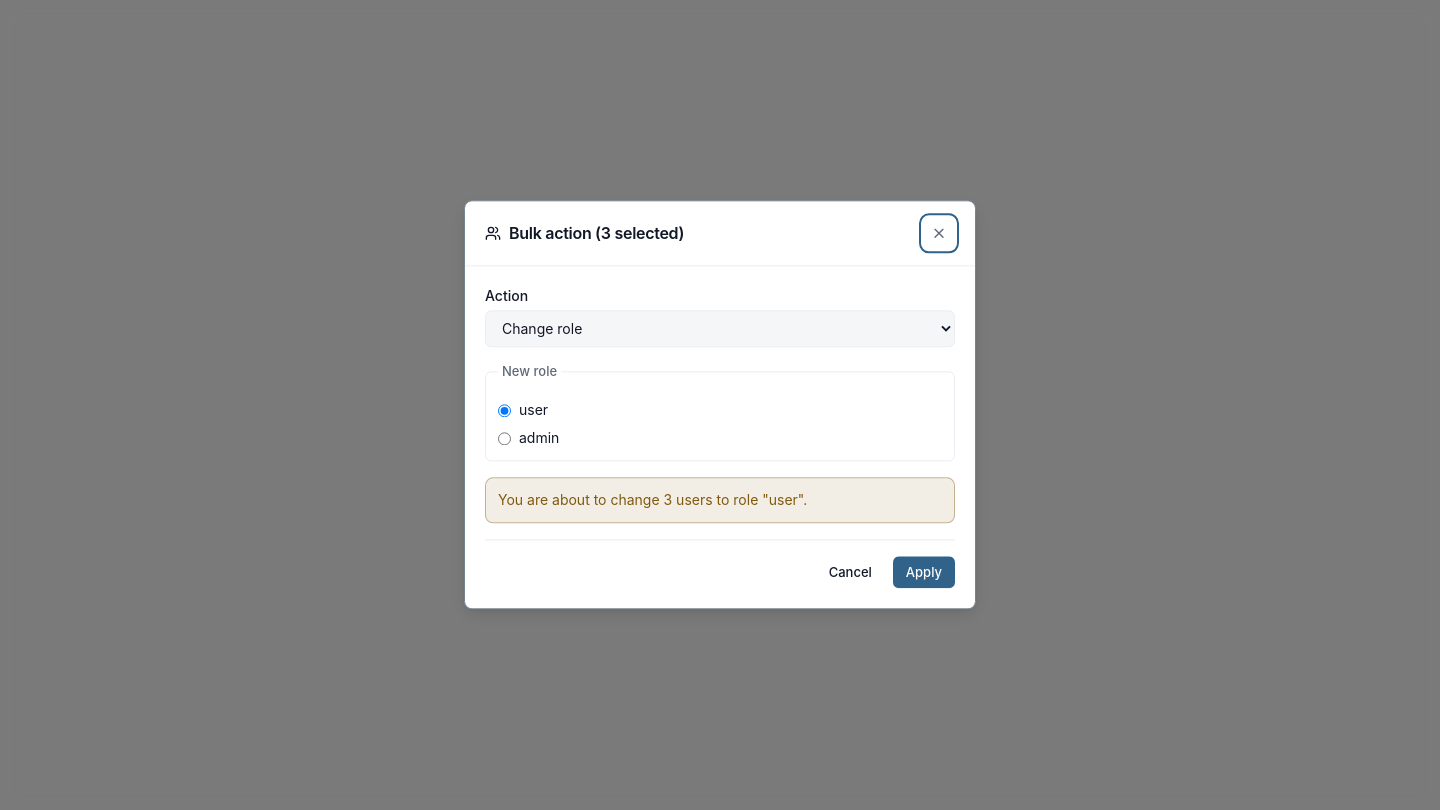
Test: UserBulkActionDialog › shows inline error on 400 and surfaces the message
Select "Add to group" in the dropdown with test id "bulk-action-kind" at (720, 329), box [485,310,955,347]
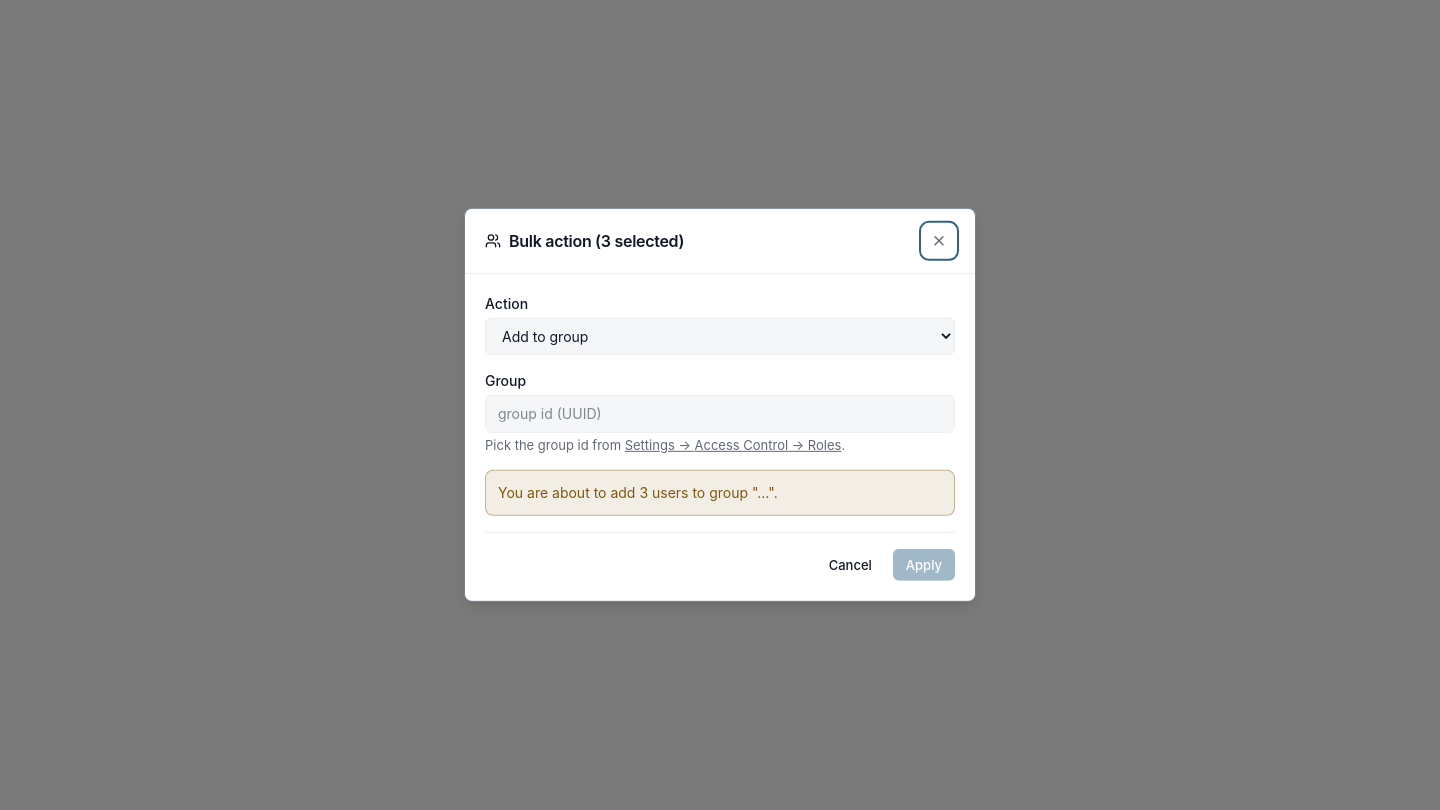
Type "group-eng" into the field with test id "bulk-action-group" at (720, 414), box [485,395,955,433]
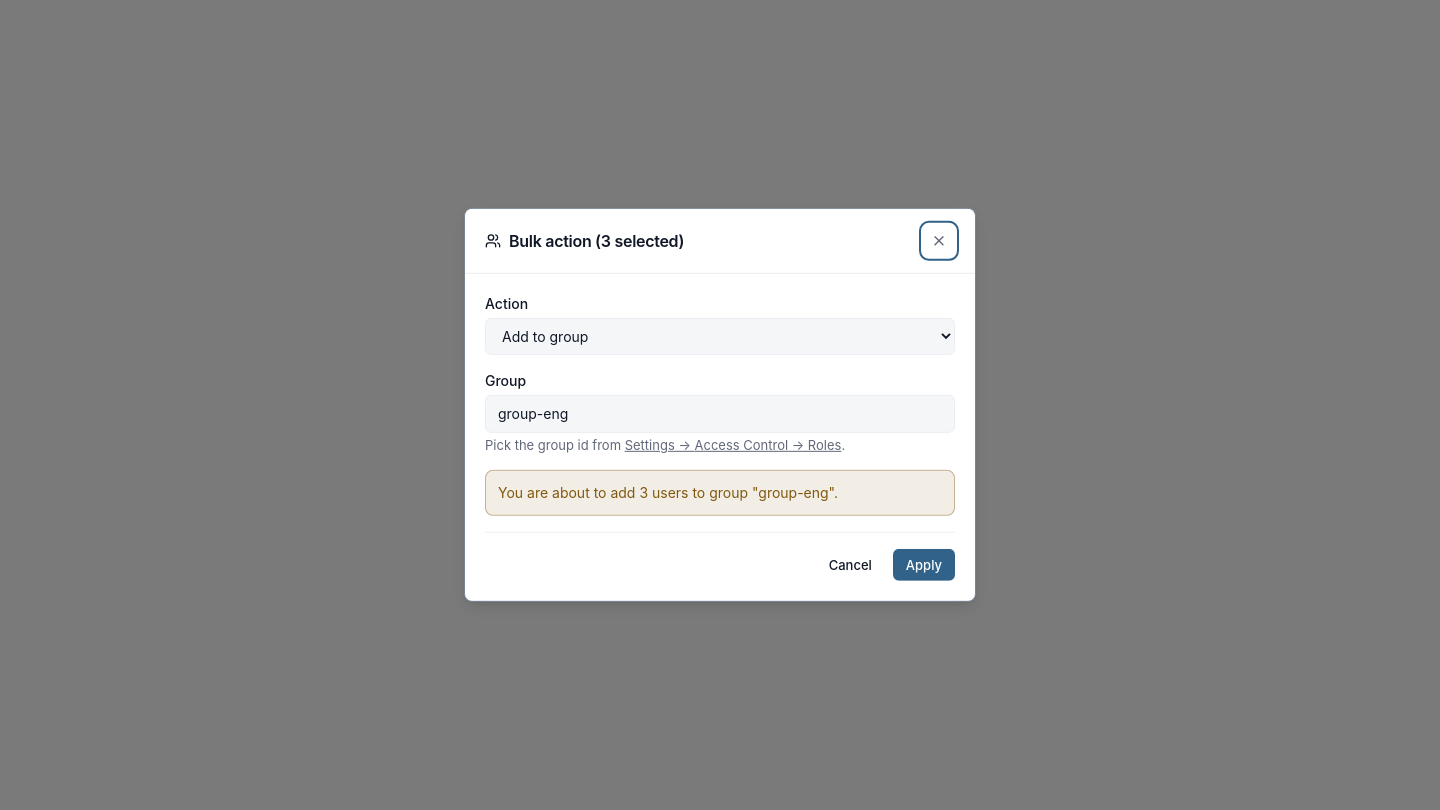
Click the button with test id "bulk-action-submit" at (924, 565), box [893,549,955,581]
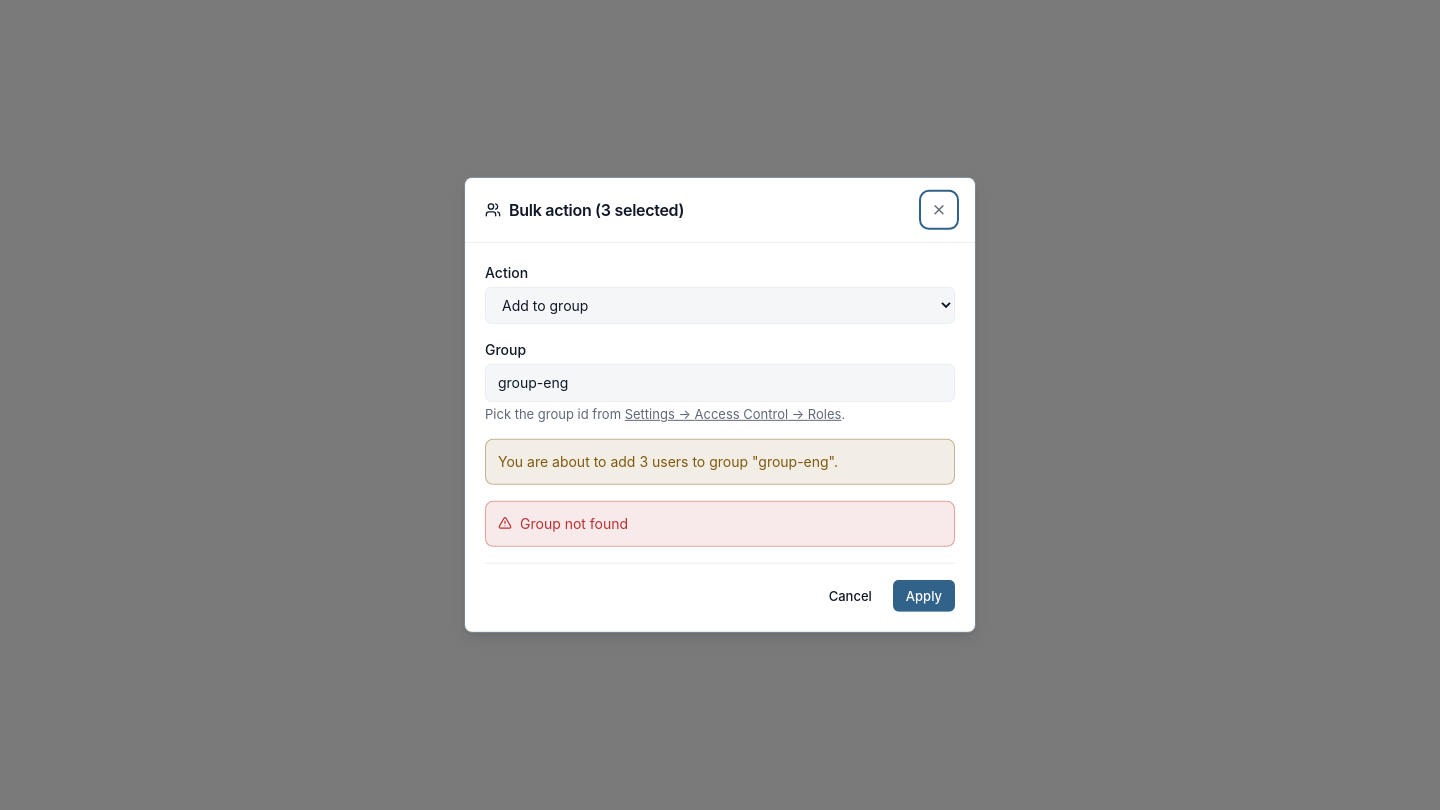
Result: the message "Group not found" is shown at [485,501,955,547]
Result: the message with test id "bulk-action-error" reads "Group not found" at [520,515,628,532]
